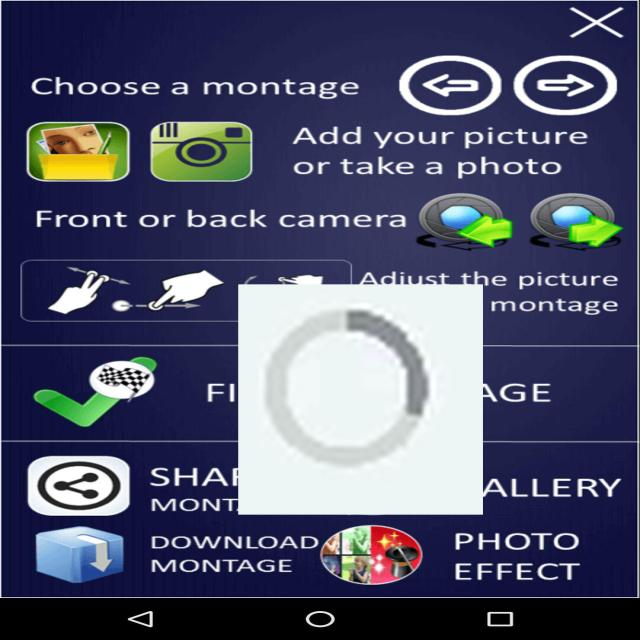misdirection: (238, 284, 483, 515)
